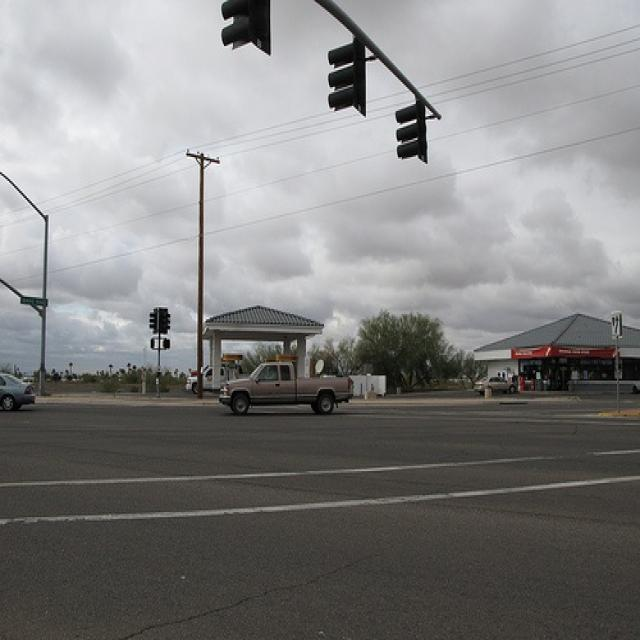car: (214, 355, 356, 423), (186, 357, 238, 398), (0, 374, 41, 414), (470, 370, 516, 396)
